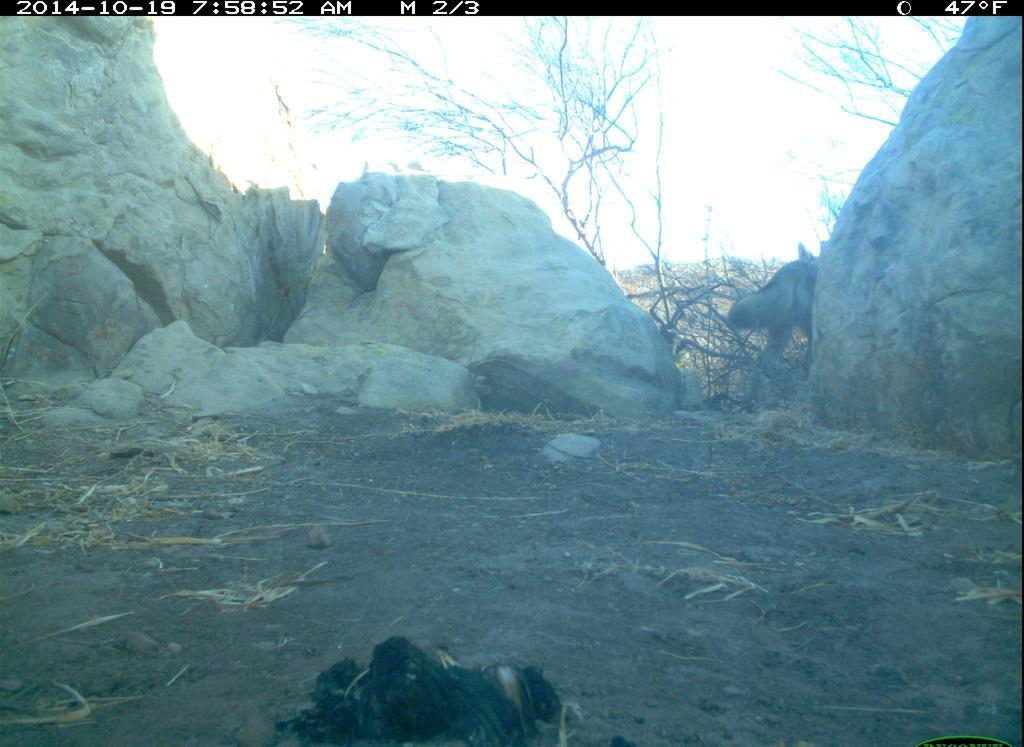coyote: (725, 241, 835, 402)
